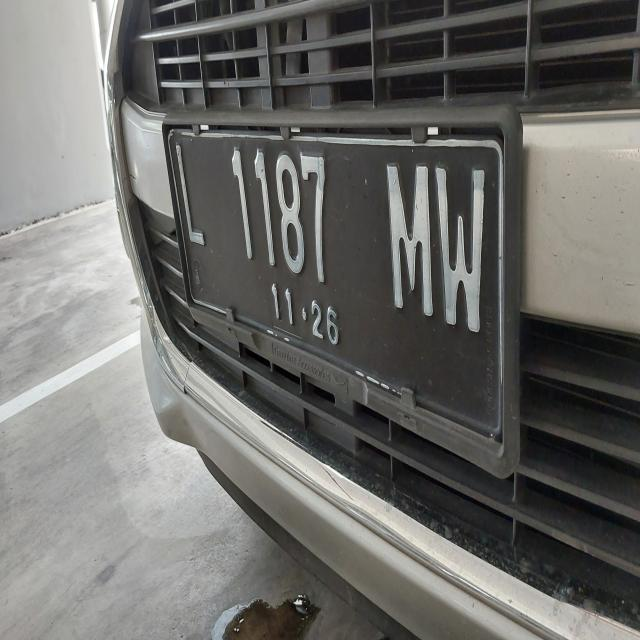1: (224, 147, 257, 269), (249, 143, 279, 268)
7: (300, 137, 334, 293)
8: (270, 146, 306, 288)
L: (168, 135, 212, 255)
M: (376, 146, 434, 341)
W: (432, 162, 490, 338)
